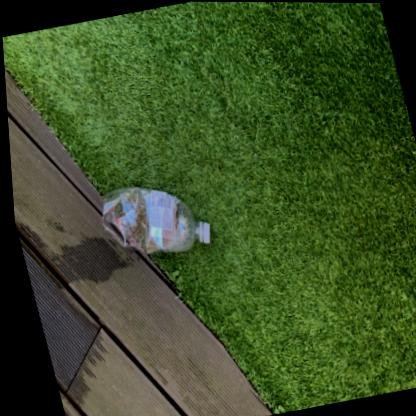Plastic: (98, 186, 205, 254)
